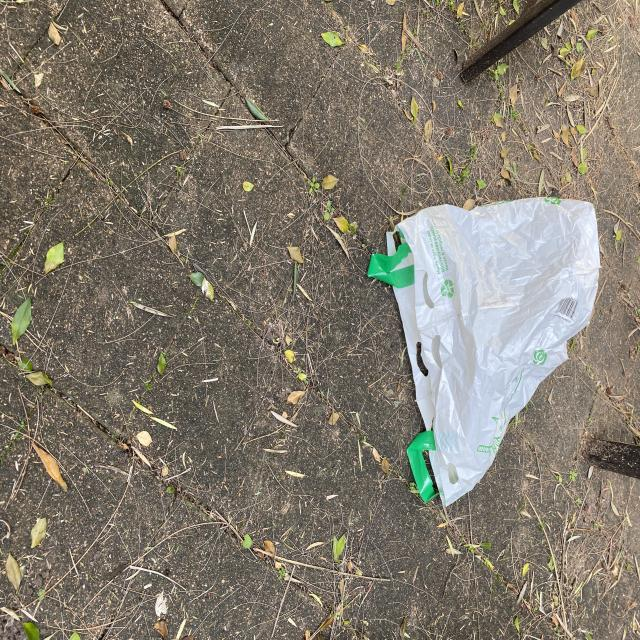bag: (366, 195, 600, 505)
